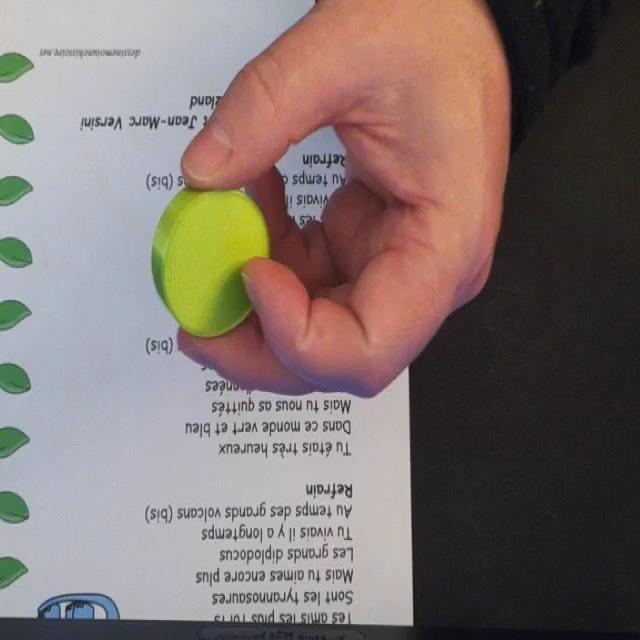round: (150, 180, 272, 339)
